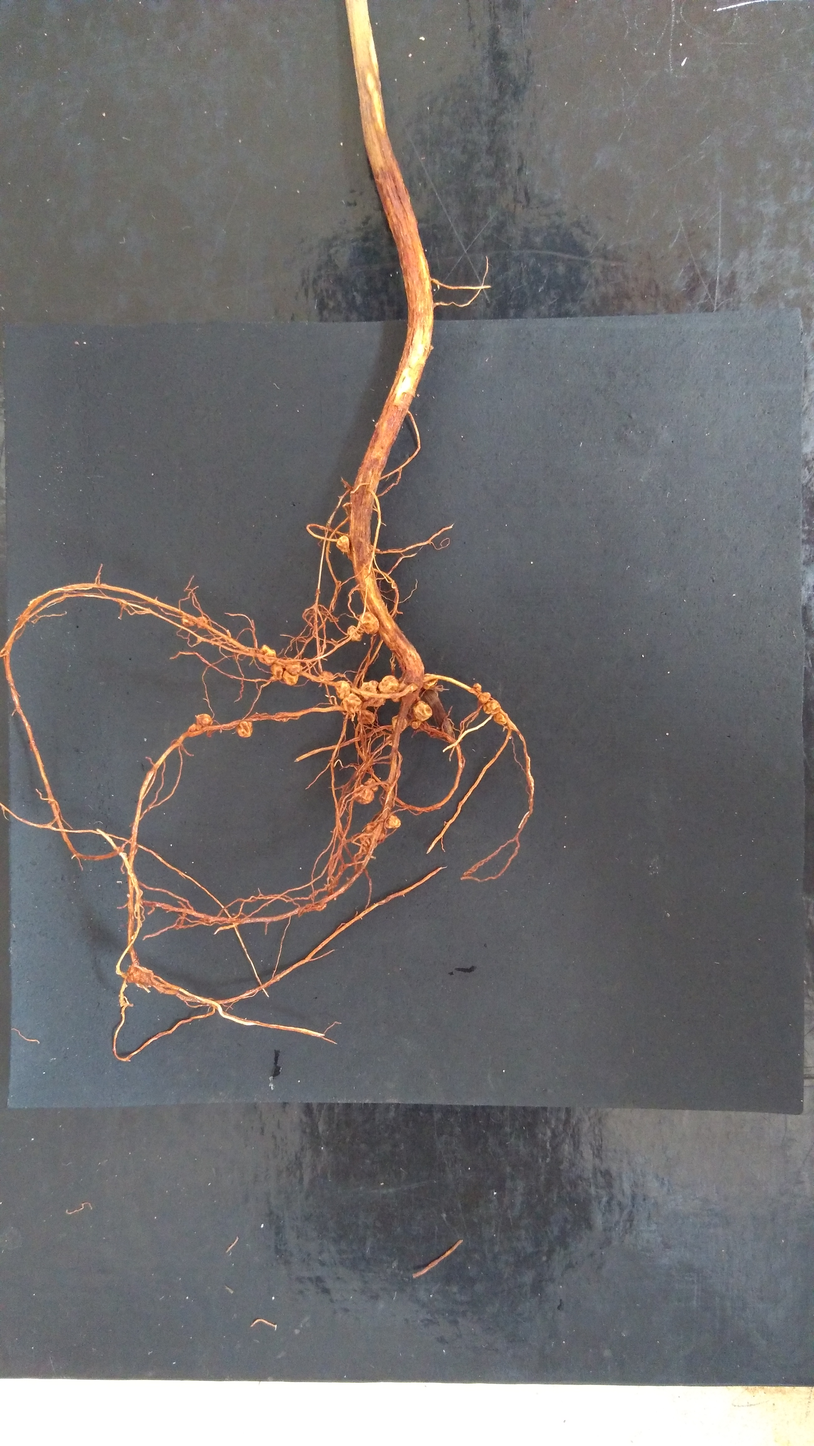nodule: (359, 680, 385, 707), (128, 965, 152, 985), (359, 612, 379, 634), (412, 700, 432, 721), (258, 644, 276, 666), (342, 694, 361, 714), (354, 785, 374, 804), (378, 675, 399, 693), (366, 822, 386, 840), (334, 681, 351, 700), (285, 657, 301, 675), (422, 673, 438, 690), (392, 715, 407, 733), (273, 712, 299, 722), (237, 721, 252, 738), (336, 535, 350, 553), (357, 710, 375, 724), (283, 669, 298, 685), (483, 700, 500, 714), (347, 626, 362, 641), (360, 835, 377, 848), (385, 814, 400, 828), (271, 663, 283, 680), (364, 778, 378, 792), (196, 714, 213, 725), (493, 713, 507, 725), (181, 614, 194, 626), (197, 616, 208, 629), (478, 692, 491, 703), (320, 671, 333, 680), (188, 724, 202, 731), (385, 735, 393, 746), (473, 683, 482, 692), (391, 694, 401, 702), (316, 903, 326, 911), (411, 721, 420, 729), (397, 683, 405, 691), (120, 599, 128, 607)
